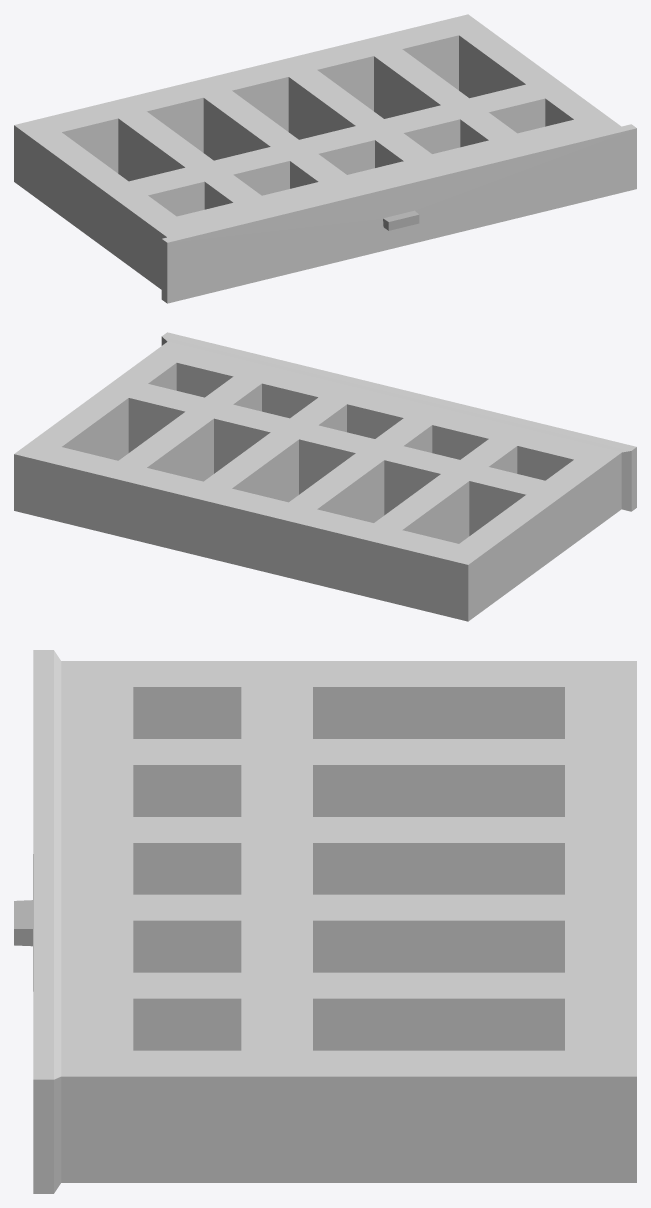
The model's file is dynamic.glb.
3 renders of one model, top to bottom at view 1: azimuth 30°, elevation 25°; view 2: azimuth 150°, elevation 25°; view 3: azimuth 270°, elevation 25°, orthographic. The views are drawn at different scales.
Visible parts, largest first — view 1: Cashier.001; view 2: Cashier.001; view 3: Cashier.001.
Part boxes in pixels (x1,y1,x2,y2): Cashier.001: (14, 14, 636, 303); Cashier.001: (14, 332, 636, 621); Cashier.001: (14, 650, 636, 1193).
Size of the model in its own units: 1.31 by 0.1625 by 0.8039.
1 material, 1 textured.
